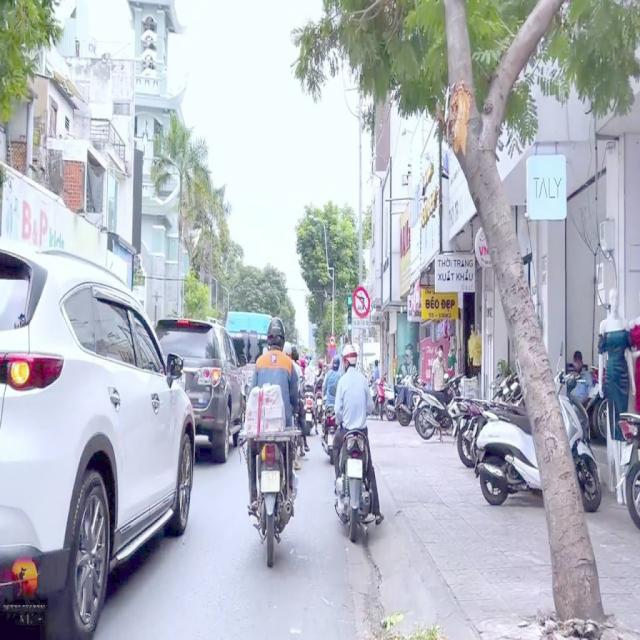cam_o_to_re_trai: (352, 286, 370, 318)
cam_o_to_tai: (329, 336, 335, 347)
khac: (353, 318, 370, 329)
